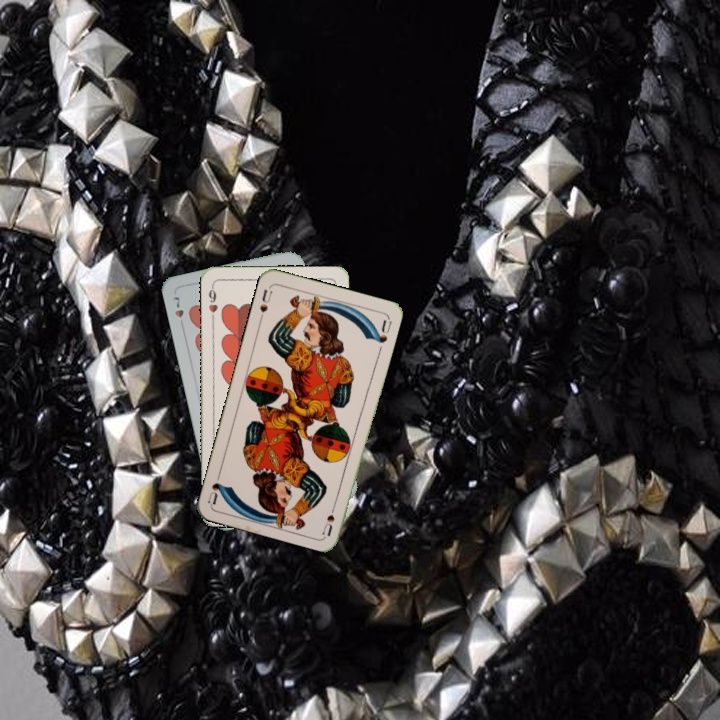H7: (169, 291, 187, 331)
H9: (204, 281, 220, 315)
SU: (318, 497, 340, 537), (255, 285, 275, 323)
